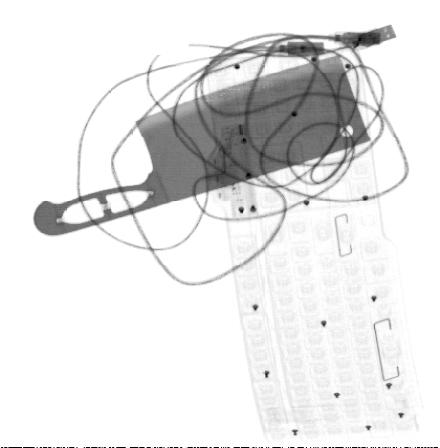Knife: (32, 53, 371, 237)
